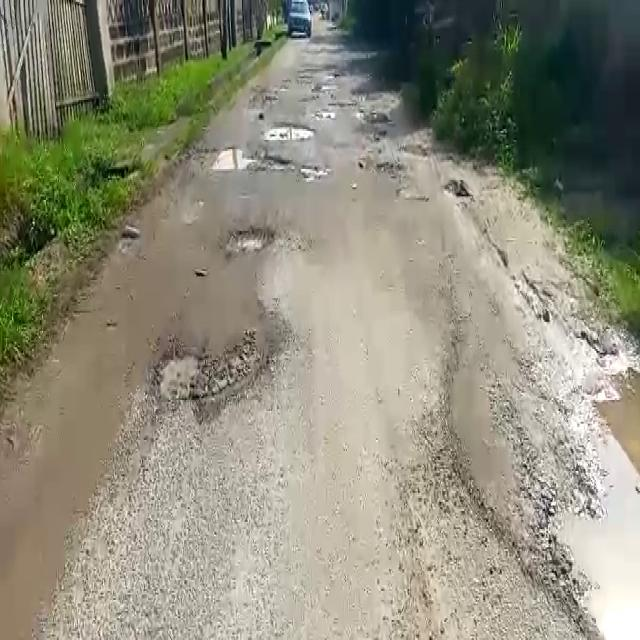Pothole: (538, 369, 640, 639), (150, 322, 283, 420), (205, 146, 294, 172), (225, 223, 279, 255), (261, 119, 316, 140)
